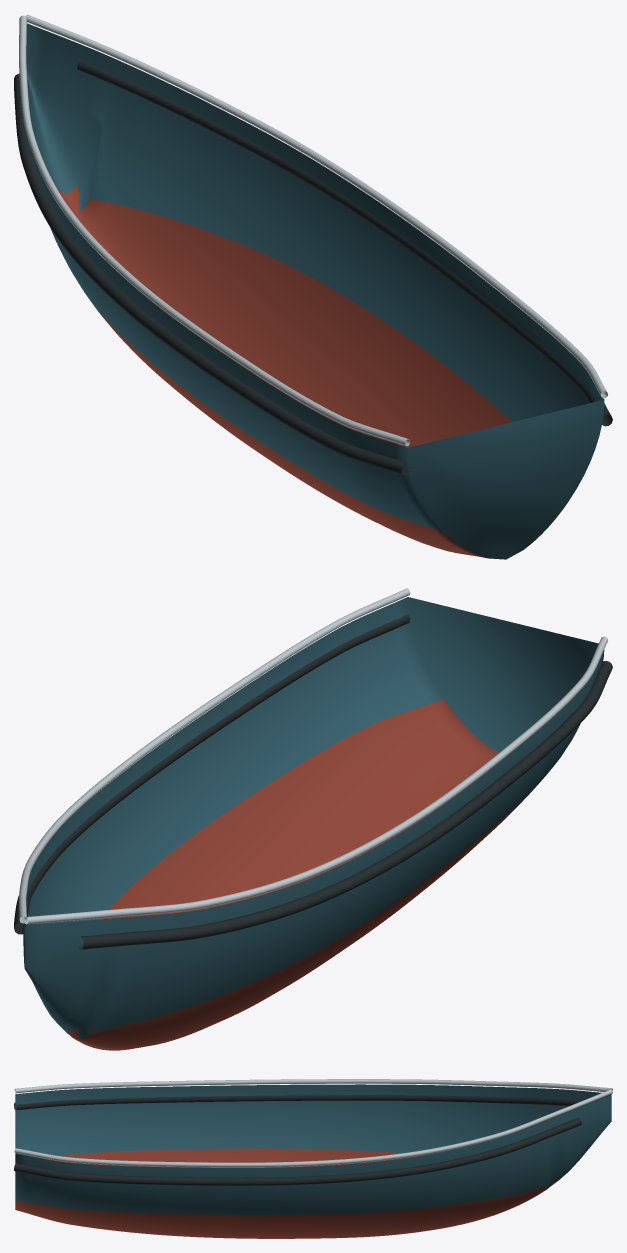
File: coastal_hull_14m.glb
3 renders of one model, top to bottom at view 1: azimuth 30°, elevation 25°; view 2: azimuth 150°, elevation 25°; view 3: azimuth 270°, elevation 25°, orthographic. The views are drawn at different scales.
Parts seen in each view (by area): view 1: 14m rounded steel hull, Heavy rubber rubbing strake, Continuous gunwale.001, Heavy rubber rubbing strake.001, Continuous gunwale; view 2: 14m rounded steel hull, Heavy rubber rubbing strake, Continuous gunwale, Continuous gunwale.001, Heavy rubber rubbing strake.001; view 3: 14m rounded steel hull, Heavy rubber rubbing strake.001, Heavy rubber rubbing strake, Continuous gunwale.001, Continuous gunwale.
Boxes of the visible parts, box(x1,y1,x2,y2) form: 14m rounded steel hull: box(26, 23, 604, 559); Heavy rubber rubbing strake: box(14, 73, 409, 475); Continuous gunwale.001: box(25, 14, 607, 397); Heavy rubber rubbing strake.001: box(77, 60, 612, 426); Continuous gunwale: box(19, 15, 410, 446); 14m rounded steel hull: box(23, 597, 604, 1050); Heavy rubber rubbing strake: box(78, 661, 612, 949); Continuous gunwale: box(24, 636, 607, 924); Continuous gunwale.001: box(19, 588, 410, 923); Heavy rubber rubbing strake.001: box(14, 614, 410, 934); 14m rounded steel hull: box(15, 1084, 611, 1238); Heavy rubber rubbing strake.001: box(14, 1117, 581, 1185); Heavy rubber rubbing strake: box(14, 1095, 578, 1109); Continuous gunwale.001: box(14, 1089, 612, 1167); Continuous gunwale: box(14, 1079, 612, 1093).
Size of the model in its own units: 4.86 by 3.8 by 14.06.
